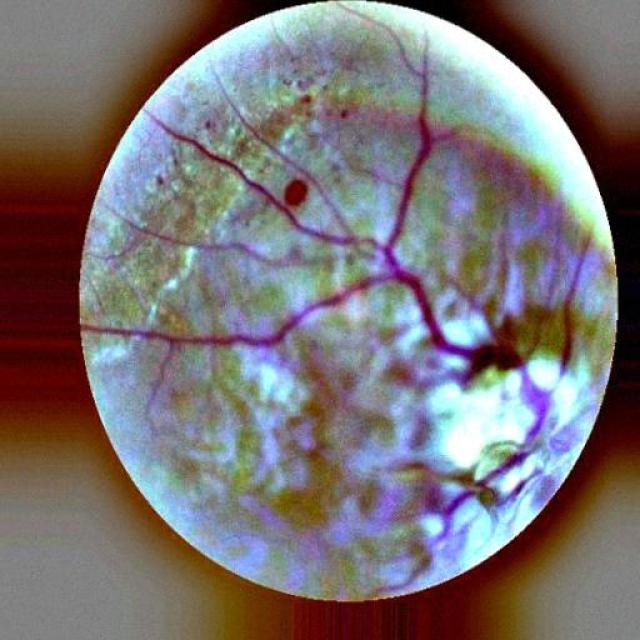Macula: (284, 179, 308, 206)
Nerves: (80, 62, 548, 515), (560, 248, 586, 372)
